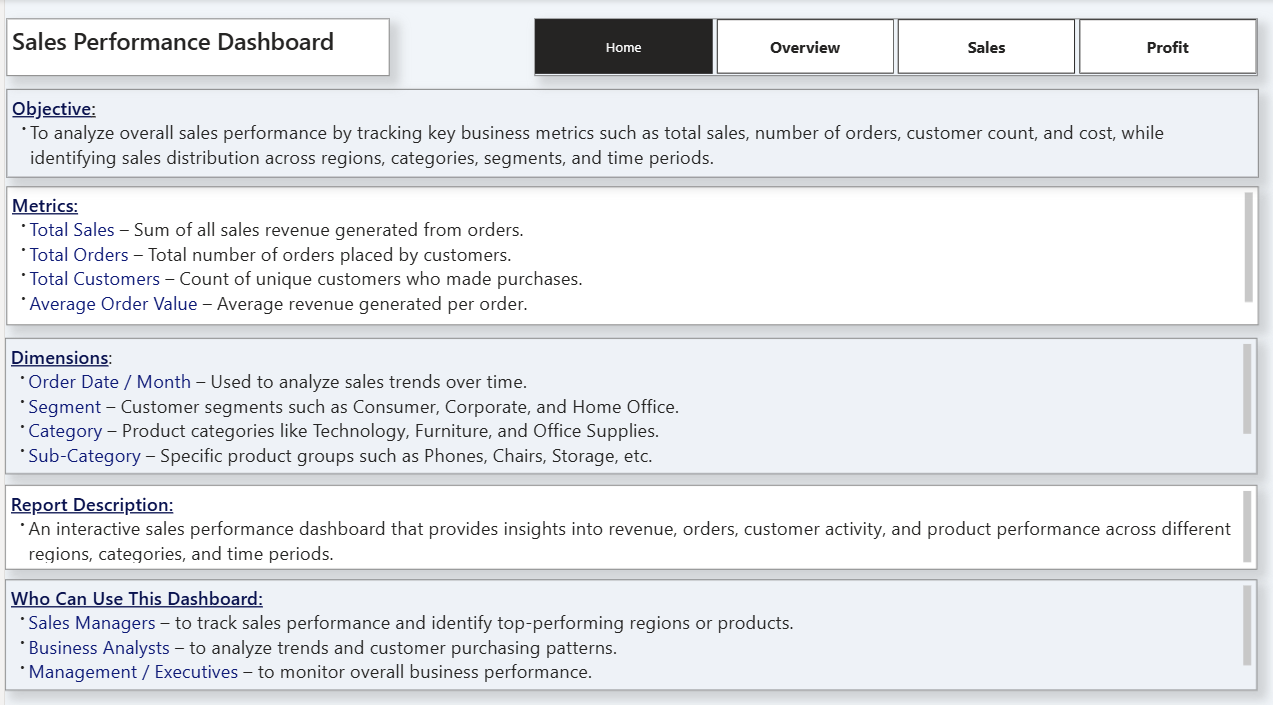

The page's visual inventory and layout, read from the dashboard file:
{"tool":"powerbi","page":{"name":"Home","canvas":[1280,720],"ordinal":0},"visuals":[{"type":"textbox","box":[1.4,189.9,1264.3,140.3],"z":0},{"type":"textbox","box":[1.4,90.7,1264.3,89.3],"z":1000},{"type":"textbox","box":[1.4,19.8,386.9,58.1],"z":2000},{"type":"pageNavigator","box":[534.9,20.2,730.1,57.8],"z":3000},{"type":"textbox","box":[0,341.6,1264.3,137.5],"z":4000},{"type":"textbox","box":[0,490.4,1264.3,85],"z":5000},{"type":"textbox","box":[0,585.4,1264.3,112],"z":6000}]}

Visuals, with their boxes in screenshot pixels (x1, y1, x2, y2), scaled from the page's 1280x720 canvas onto the 1273x705 screenshot:
textbox: BBox(1, 186, 1259, 323)
textbox: BBox(1, 89, 1259, 176)
textbox: BBox(1, 19, 386, 76)
pageNavigator: BBox(532, 20, 1258, 76)
textbox: BBox(0, 334, 1257, 469)
textbox: BBox(0, 480, 1257, 563)
textbox: BBox(0, 573, 1257, 683)
